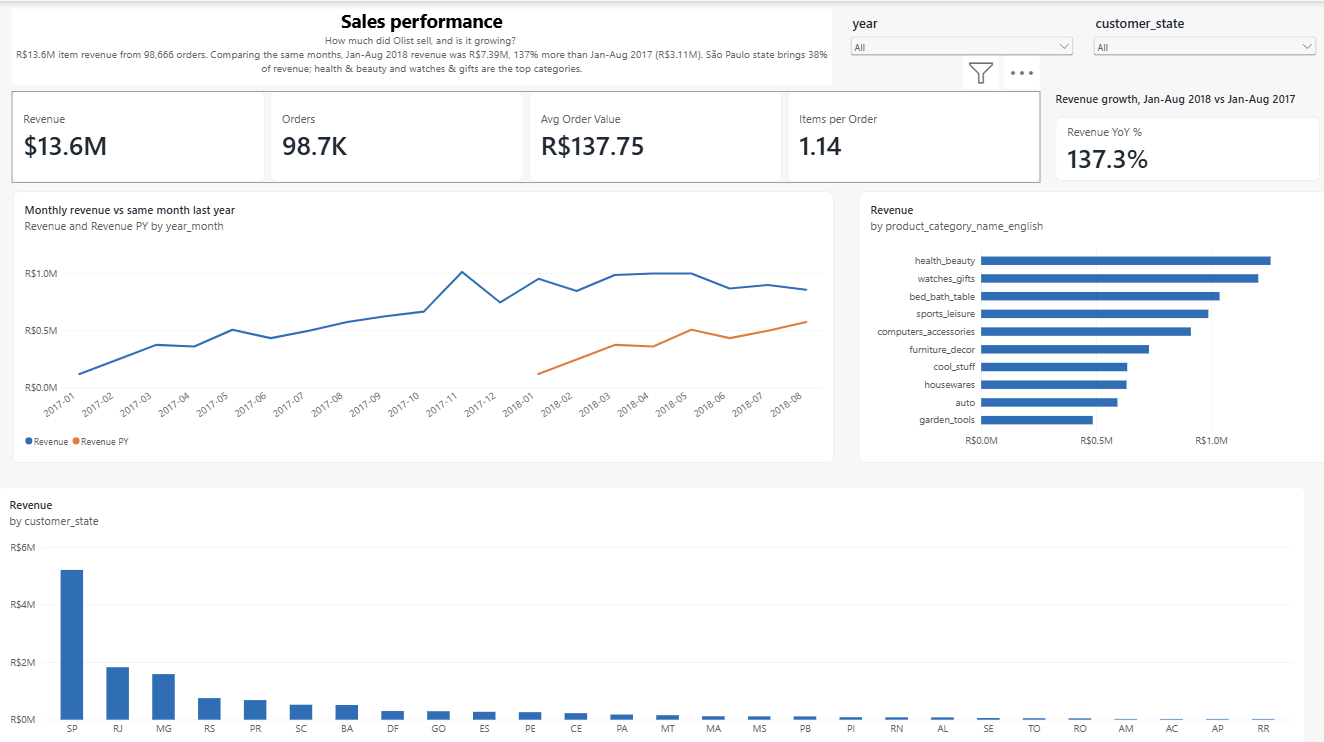

The dashboard page shown, as its layout file describes it:
{"tool":"powerbi","page":{"name":"Sales","canvas":[1920,1080],"ordinal":0},"visuals":[{"type":"cardVisual","fields":{"Data":["_Measures.Revenue","_Measures.Orders","_Measures.Avg Order Value","_Measures.Items per Order"]},"box":[20,130,1480,130],"z":0},{"type":"lineChart","title":"Monthly revenue vs same month last year","fields":{"Category":["dim_date.year_month"],"Y":["_Measures.Revenue","_Measures.Revenue PY"]},"box":[20.9,274.5,1180,390],"z":1000},{"type":"clusteredBarChart","fields":{"Category":["dim_products.product_category_name_english"],"Y":["_Measures.Revenue"]},"box":[1237.6,274.5,680,390],"z":2000},{"type":"clusteredColumnChart","fields":{"Category":["dim_customers.customer_state"],"Y":["_Measures.Revenue"]},"box":[0,697.9,1880,380],"z":3000},{"type":"slicer","fields":{"Values":["dim_date.year"]},"box":[1220,20,330,80],"z":4000},{"type":"slicer","fields":{"Values":["dim_customers.customer_state"]},"box":[1570,20,330,80],"z":5000},{"type":"textbox","box":[20,10,1180,110],"z":7000},{"type":"cardVisual","title":"Revenue growth, Jan-Aug 2018 vs Jan-Aug 2017","fields":{"Data":["_Measures.Revenue YoY %"]},"box":[1520,130,380,130],"z":8000}]}

Visuals, with their boxes in screenshot pixels (x1, y1, x2, y2), scaled from the page's 1920x1080 canvas onto the 1324x742 screenshot:
cardVisual - _Measures.Revenue x _Measures.Orders: crop(14, 89, 1034, 179)
"Monthly revenue vs same month last year" lineChart: crop(14, 189, 828, 457)
clusteredBarChart - dim_products.product_category_name_english x _Measures.Revenue: crop(853, 189, 1322, 457)
clusteredColumnChart - dim_customers.customer_state x _Measures.Revenue: crop(0, 479, 1296, 741)
slicer - dim_date.year: crop(841, 14, 1069, 69)
slicer - dim_customers.customer_state: crop(1083, 14, 1310, 69)
textbox: crop(14, 7, 828, 82)
"Revenue growth, Jan-Aug 2018 vs Jan-Aug 2017" cardVisual: crop(1048, 89, 1310, 179)
